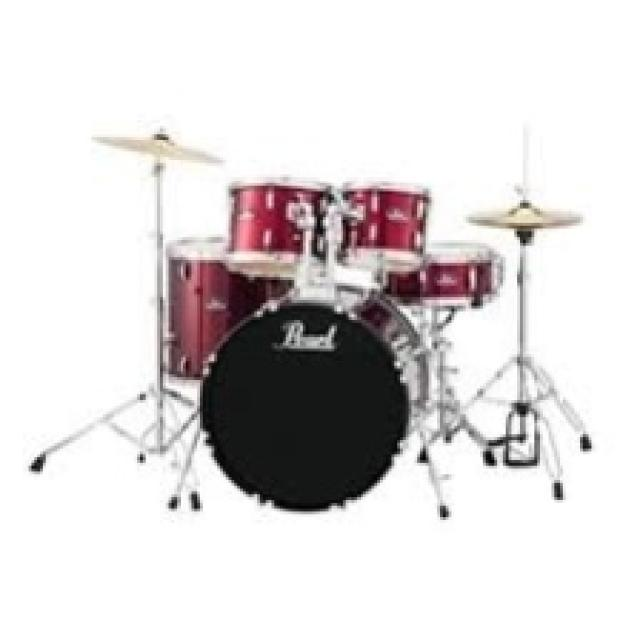drums: (79, 112, 596, 527)
